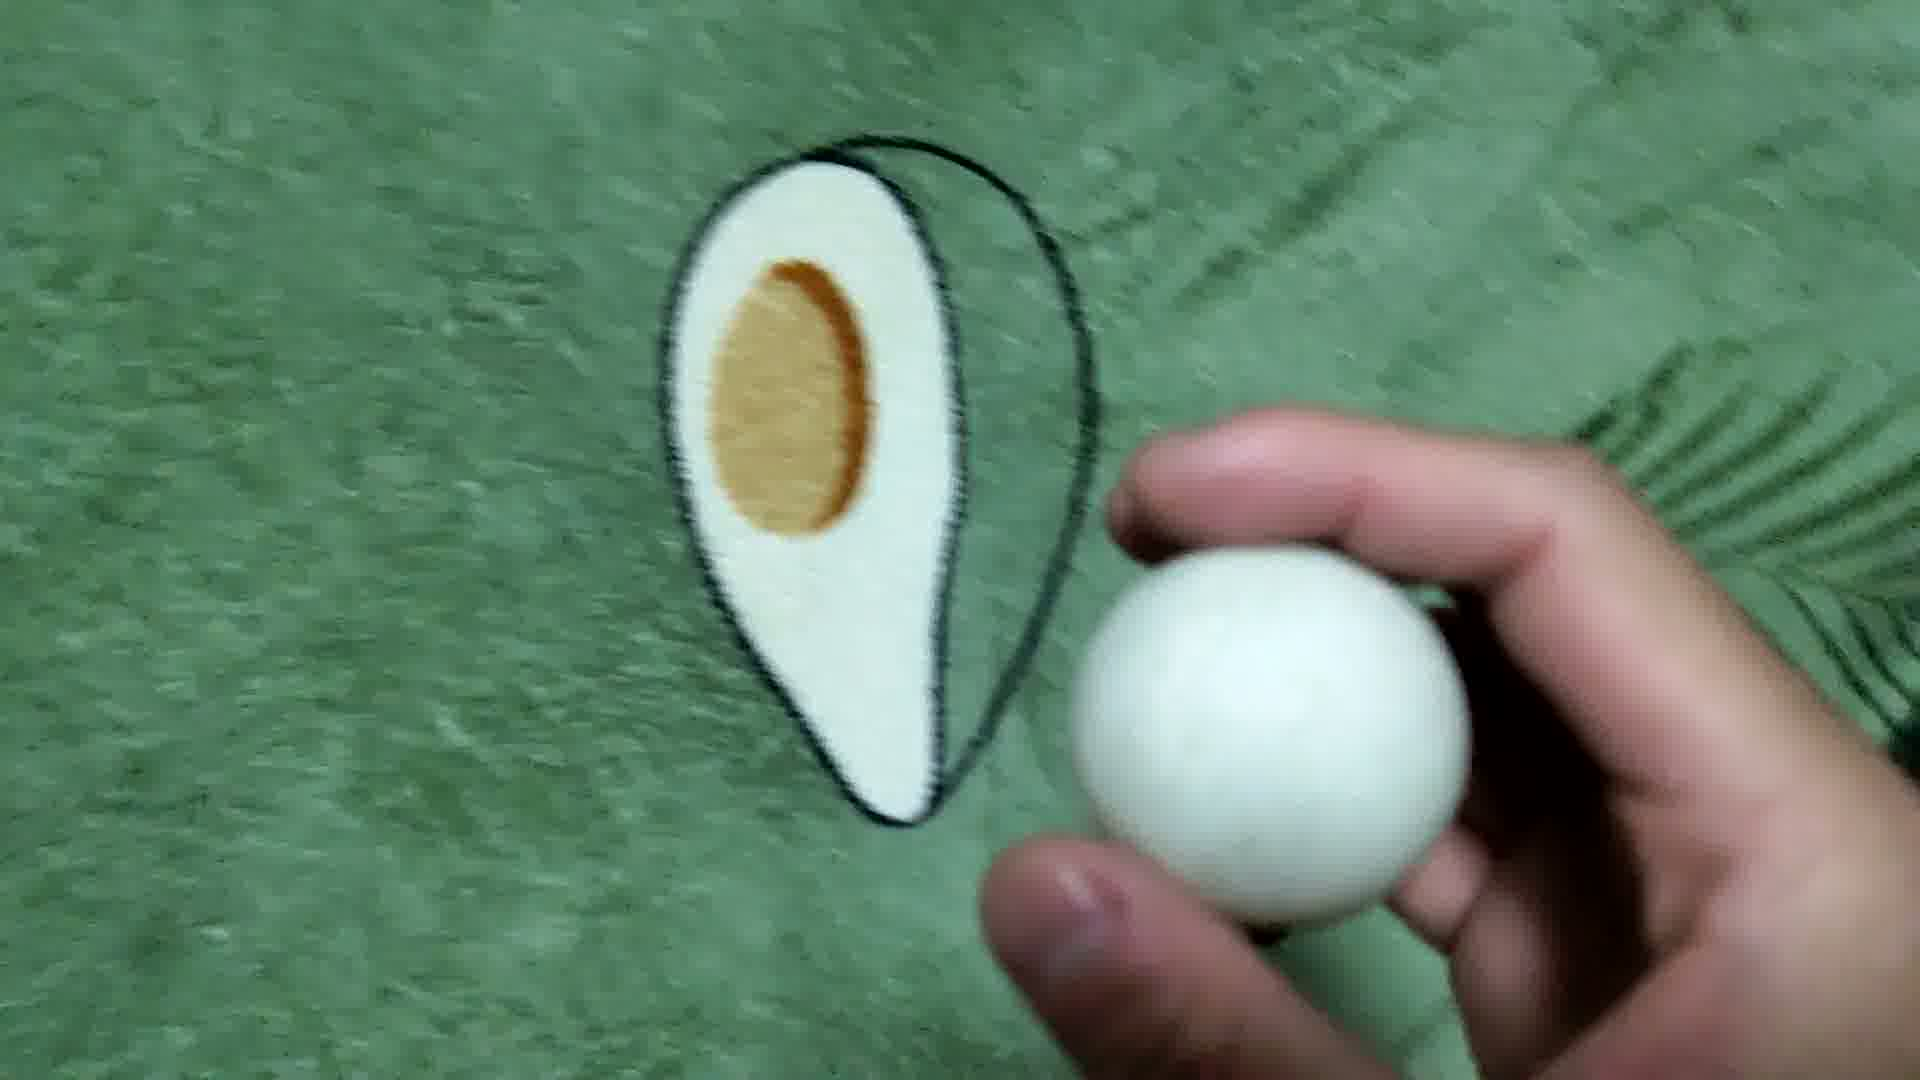Ball: (1072, 549, 1470, 920)
